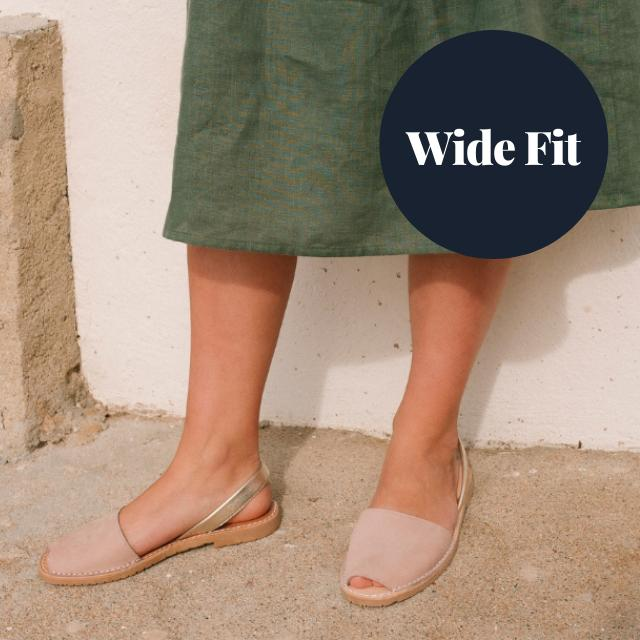Sandals: (34, 447, 284, 588), (337, 414, 471, 608)
